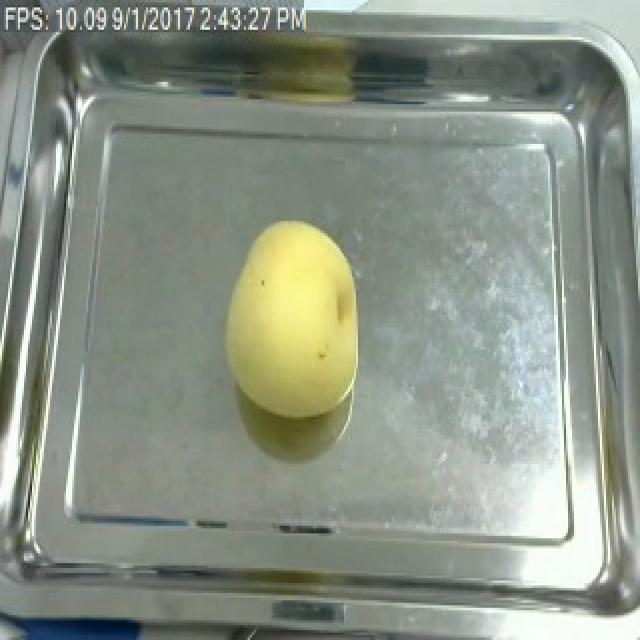Fruit: (214, 211, 368, 427)
